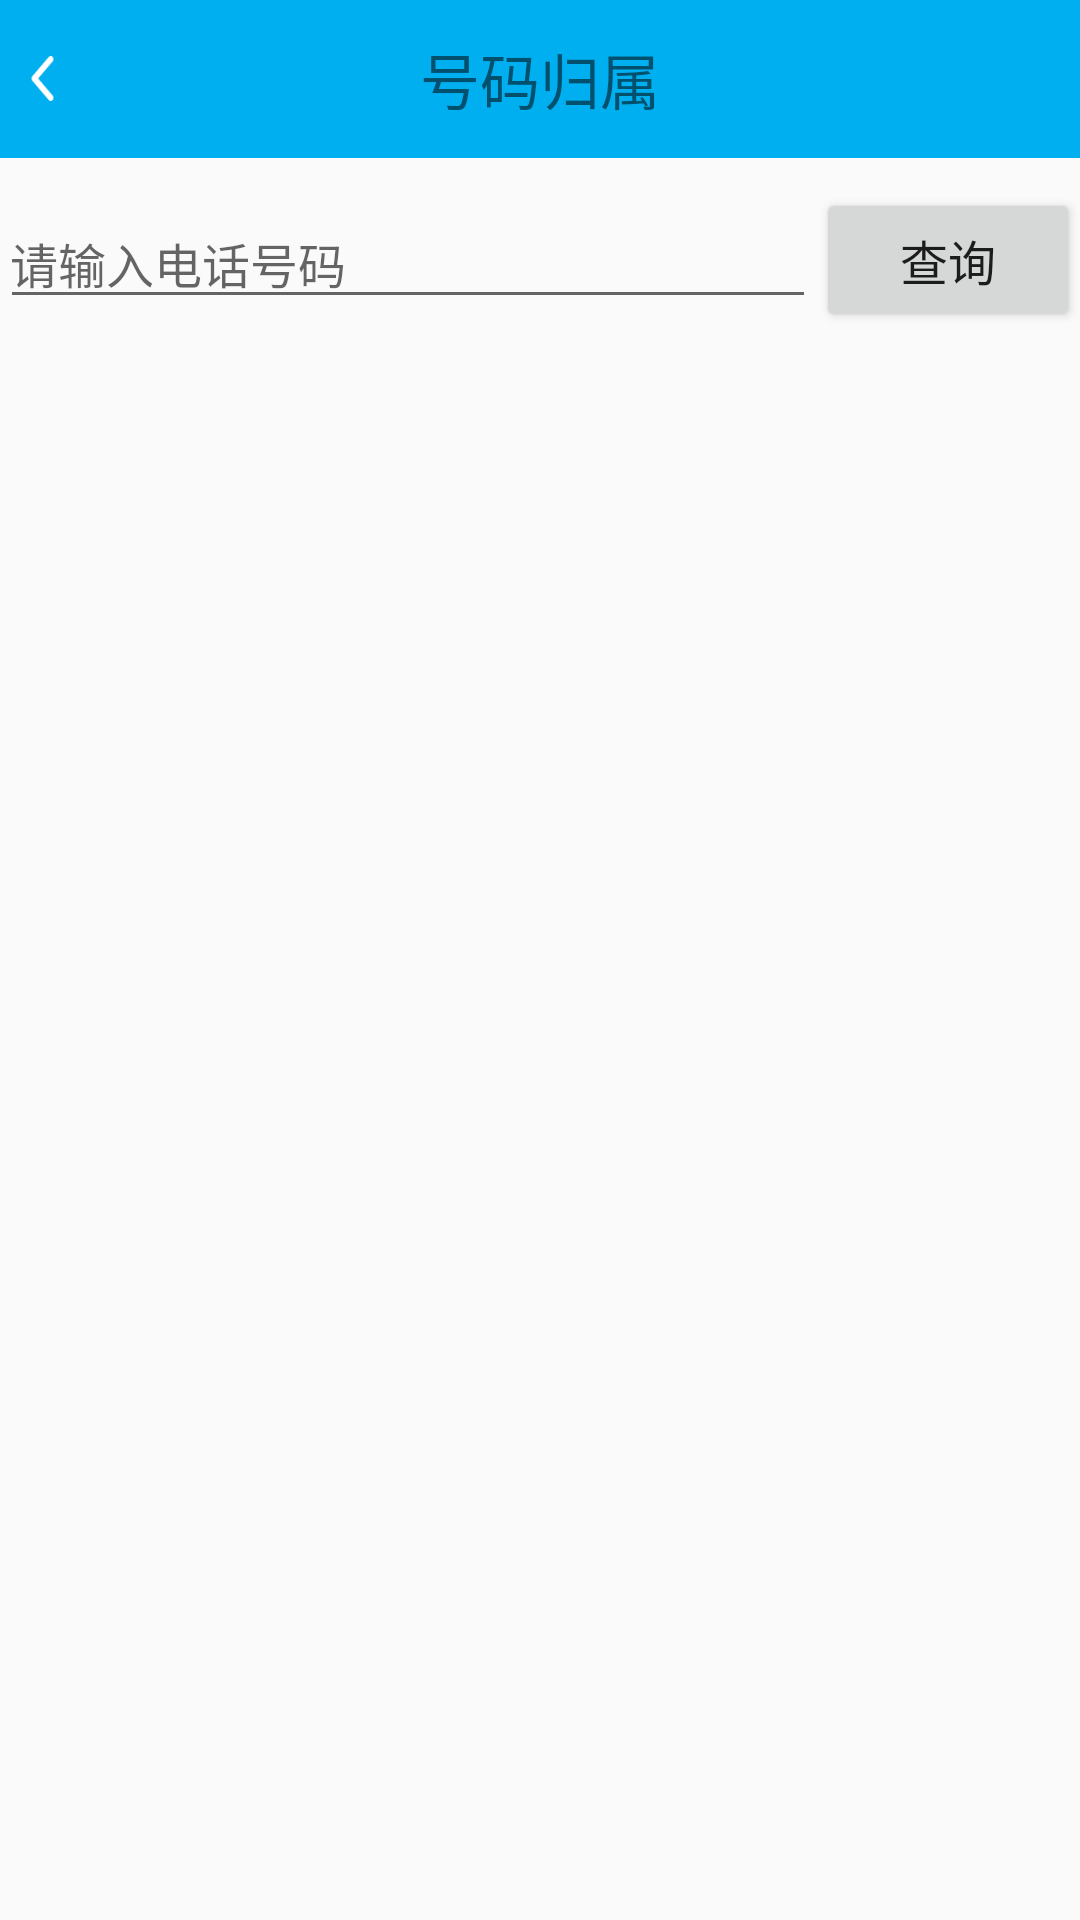

Icon click points for this 1080*1920 phone screenshot, format point (x, y):
return iv: point (42, 78)
